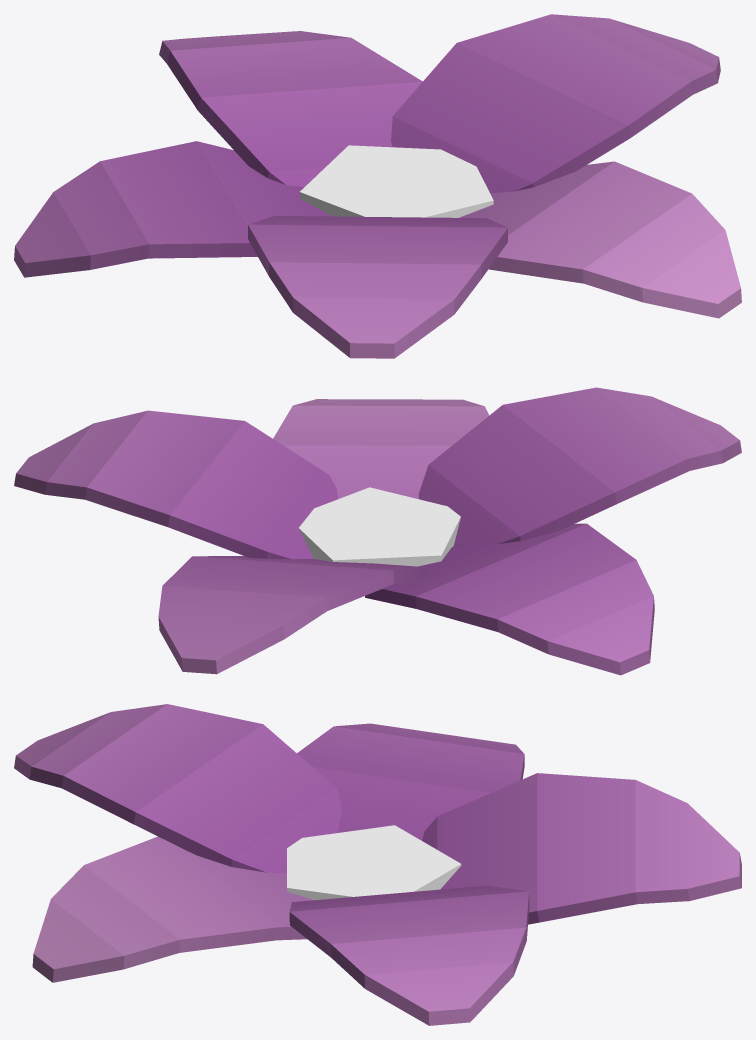
Rendered from Flower_09.fbx.
3 views of the same model, one above another, from view 1: azimuth 30°, elevation 25°; view 2: azimuth 150°, elevation 25°; view 3: azimuth 270°, elevation 25° (orthographic). The views are drawn at different scales.
Visible parts, largest first — view 1: Flower_09; view 2: Flower_09; view 3: Flower_09.
Part boxes in pixels (x1,y1,x2,y2): Flower_09: (14, 14, 741, 358); Flower_09: (14, 387, 741, 675); Flower_09: (14, 704, 741, 1025).
Size of the model in its own units: 0.2912 by 0.0478 by 0.2824.
